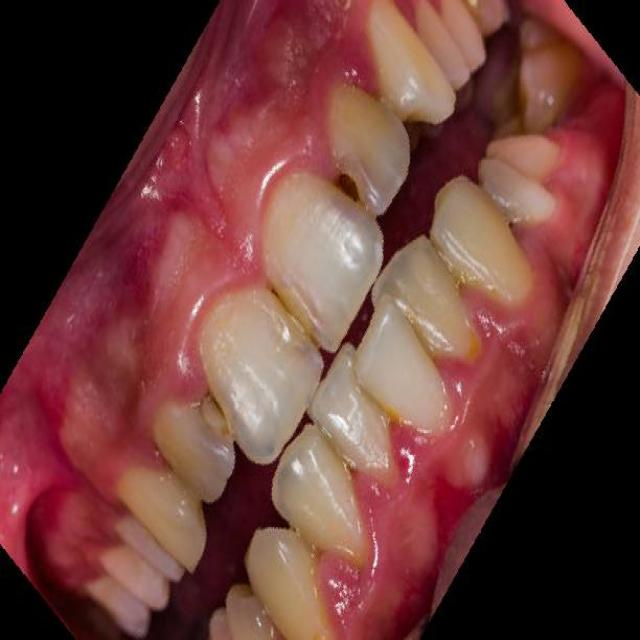redness: (322, 36, 390, 108), (377, 407, 422, 485)
swelling: (236, 148, 294, 225), (156, 344, 215, 418)
